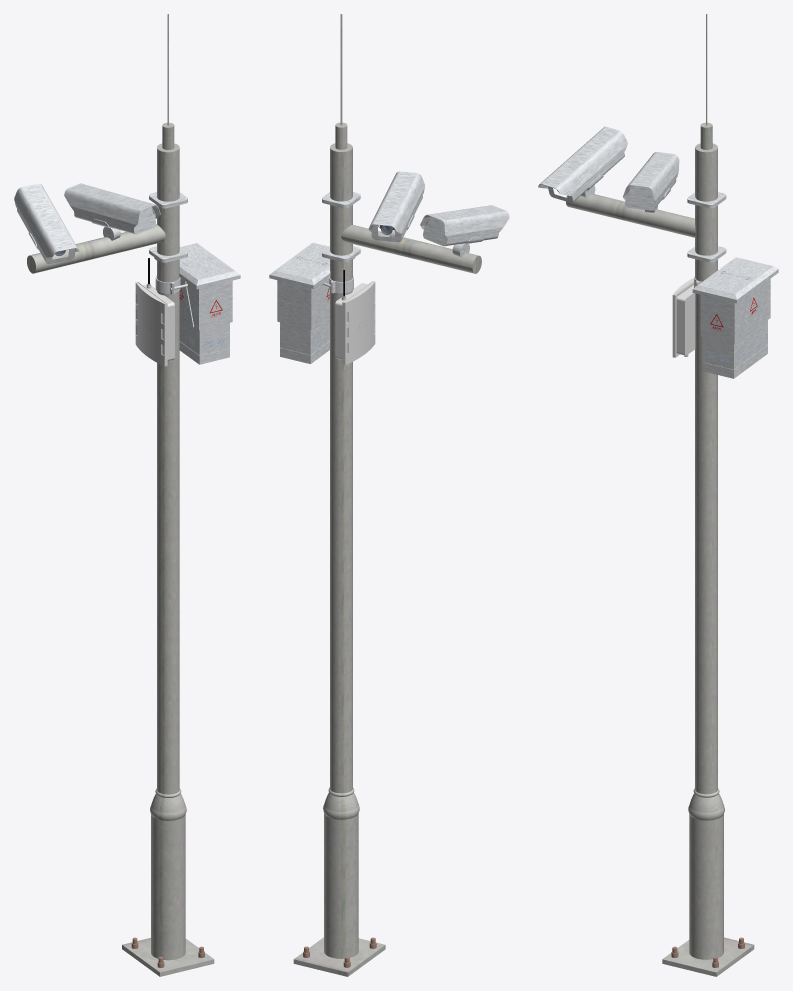
The model's file is camera.gltf.
3 renders of one model, left to right at view 1: azimuth 30°, elevation 25°; view 2: azimuth 150°, elevation 25°; view 3: azimuth 330°, elevation 25°, orthographic.
Visible parts, largest first — view 1: Mesh8 Group9 Group1 __940_1 Model, Mesh81 __223_1 Group16 Group1 __940_1 Model, Mesh91 ___8_1 ___5_1 ___6_1 __940_1 Model, Mesh100 ___8_2 ___5_2 ___6_2 __940_1 Model, Mesh6 Group7 Group1 __940_1 Model, Mesh115 Group57 __513_1 __940_1 Model, Mesh1 Group2 Group1 __940_1 Model, Mesh102 ___4_2 ___5_2 ___6_2 __940_1 Model, Mesh114 Group47 __513_1 __940_1 Model; view 2: Mesh8 Group9 Group1 __940_1 Model, Mesh81 __223_1 Group16 Group1 __940_1 Model, Mesh6 Group7 Group1 __940_1 Model, Mesh115 Group57 __513_1 __940_1 Model, Mesh100 ___8_2 ___5_2 ___6_2 __940_1 Model, Mesh91 ___8_1 ___5_1 ___6_1 __940_1 Model, Mesh1 Group2 Group1 __940_1 Model, Mesh93 ___4_1 ___5_1 ___6_1 __940_1 Model, Mesh114 Group47 __513_1 __940_1 Model; view 3: Mesh8 Group9 Group1 __940_1 Model, Mesh81 __223_1 Group16 Group1 __940_1 Model, Mesh91 ___8_1 ___5_1 ___6_1 __940_1 Model, Mesh6 Group7 Group1 __940_1 Model, Mesh1 Group2 Group1 __940_1 Model, Mesh100 ___8_2 ___5_2 ___6_2 __940_1 Model, Mesh114 Group47 __513_1 __940_1 Model, Mesh79 Group36 __223_1 Group16 Group1 __940_1 Model, Mesh102 ___4_2 ___5_2 ___6_2 __940_1 Model.
Boxes of the visible parts, bbox=[...] form: Mesh8 Group9 Group1 __940_1 Model: bbox=[150, 143, 186, 960]; Mesh81 __223_1 Group16 Group1 __940_1 Model: bbox=[154, 243, 240, 364]; Mesh91 ___8_1 ___5_1 ___6_1 __940_1 Model: bbox=[14, 183, 79, 257]; Mesh100 ___8_2 ___5_2 ___6_2 __940_1 Model: bbox=[64, 183, 160, 227]; Mesh6 Group7 Group1 __940_1 Model: bbox=[27, 224, 165, 273]; Mesh115 Group57 __513_1 __940_1 Model: bbox=[135, 282, 166, 366]; Mesh1 Group2 Group1 __940_1 Model: bbox=[122, 938, 214, 976]; Mesh102 ___4_2 ___5_2 ___6_2 __940_1 Model: bbox=[74, 207, 155, 234]; Mesh114 Group47 __513_1 __940_1 Model: bbox=[143, 284, 174, 360]; Mesh8 Group9 Group1 __940_1 Model: bbox=[323, 143, 359, 958]; Mesh81 __223_1 Group16 Group1 __940_1 Model: bbox=[269, 242, 355, 363]; Mesh6 Group7 Group1 __940_1 Model: bbox=[341, 225, 481, 273]; Mesh115 Group57 __513_1 __940_1 Model: bbox=[343, 281, 375, 365]; Mesh100 ___8_2 ___5_2 ___6_2 __940_1 Model: bbox=[368, 171, 424, 234]; Mesh91 ___8_1 ___5_1 ___6_1 __940_1 Model: bbox=[420, 205, 509, 239]; Mesh1 Group2 Group1 __940_1 Model: bbox=[293, 937, 385, 976]; Mesh93 ___4_1 ___5_1 ___6_1 __940_1 Model: bbox=[423, 217, 499, 246]; Mesh114 Group47 __513_1 __940_1 Model: bbox=[335, 283, 367, 359]; Mesh8 Group9 Group1 __940_1 Model: bbox=[688, 143, 724, 959]; Mesh81 __223_1 Group16 Group1 __940_1 Model: bbox=[692, 257, 778, 378]; Mesh91 ___8_1 ___5_1 ___6_1 __940_1 Model: bbox=[538, 126, 627, 196]; Mesh6 Group7 Group1 __940_1 Model: bbox=[566, 194, 695, 237]; Mesh1 Group2 Group1 __940_1 Model: bbox=[662, 937, 754, 976]; Mesh100 ___8_2 ___5_2 ___6_2 __940_1 Model: bbox=[623, 152, 679, 203]; Mesh114 Group47 __513_1 __940_1 Model: bbox=[676, 285, 695, 355]; Mesh79 Group36 __223_1 Group16 Group1 __940_1 Model: bbox=[739, 287, 766, 341]; Mesh102 ___4_2 ___5_2 ___6_2 __940_1 Model: bbox=[625, 179, 676, 210].
Bounding box in the file's own units: 1.05 × 4.9 × 0.5423.
17 materials, 5 textured.
